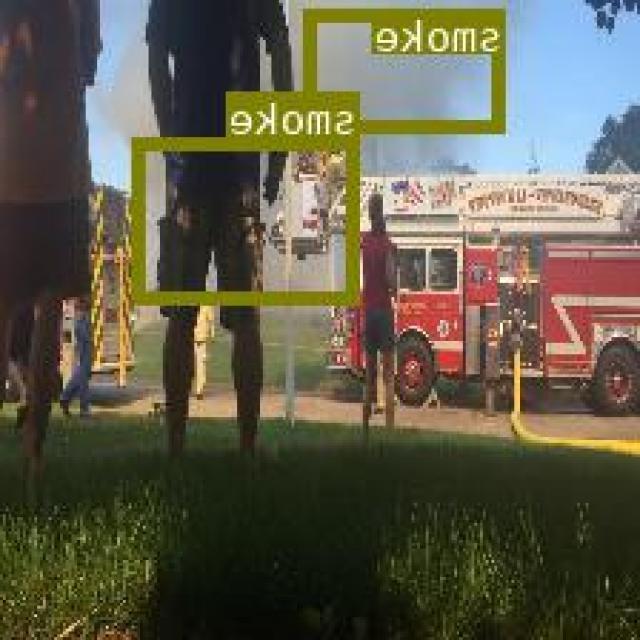smoke: (136, 136, 361, 302), (307, 7, 508, 131)
